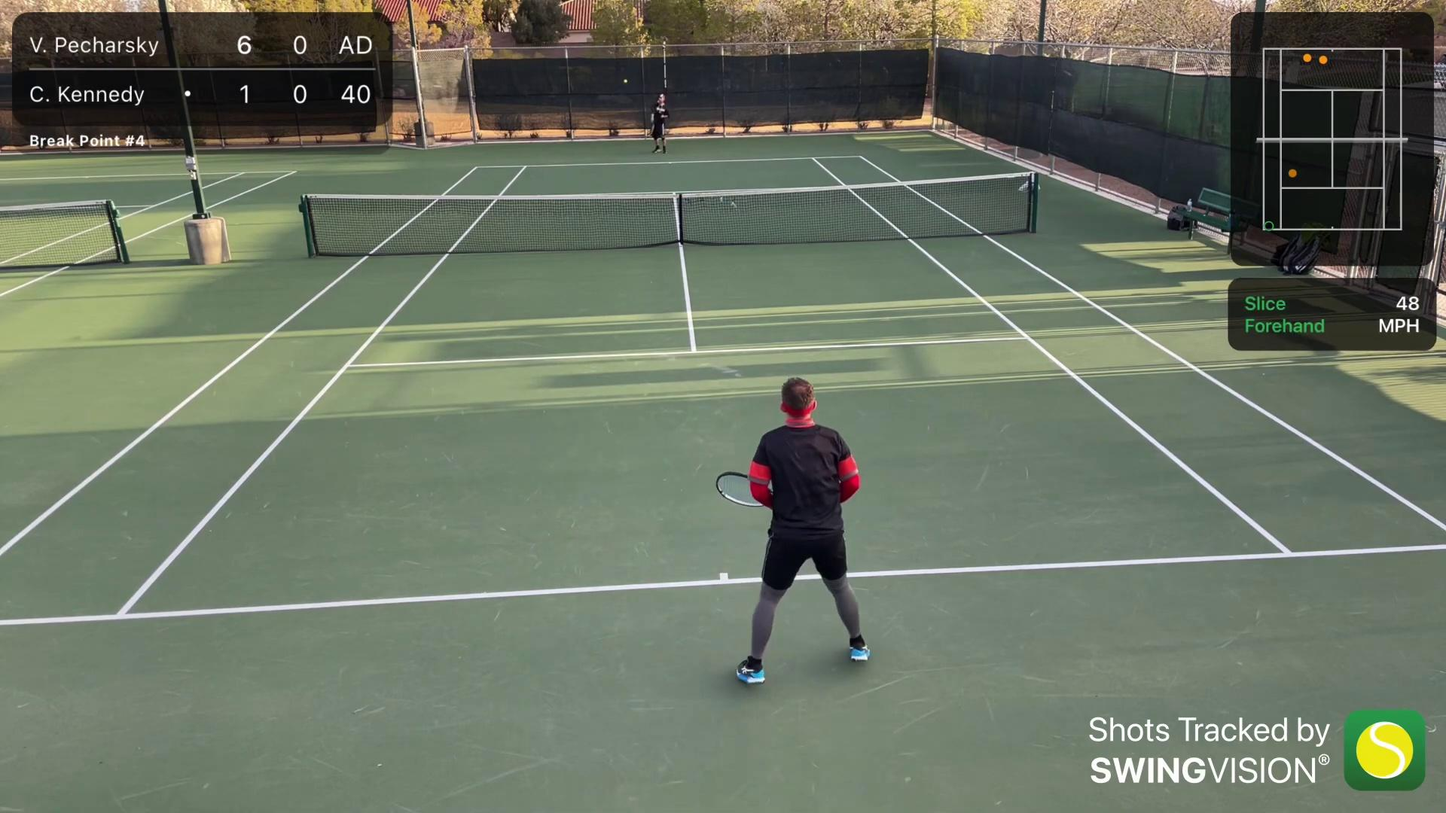ball: (621, 78, 628, 85)
